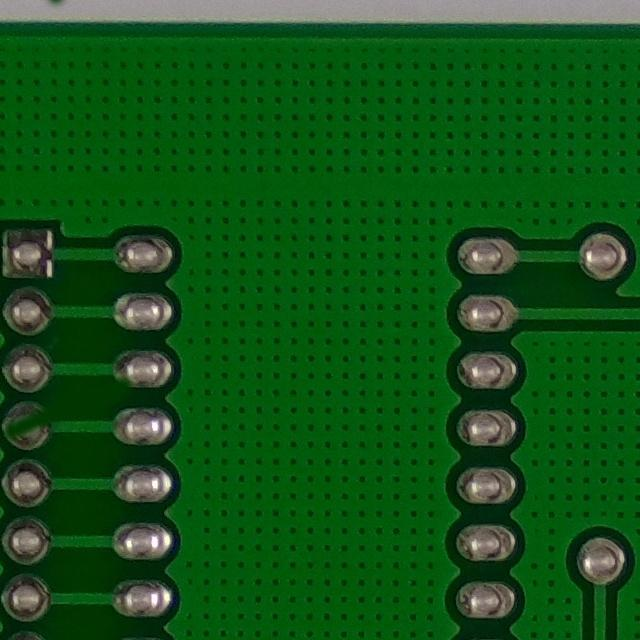missing_hole: (0, 392, 57, 460)
